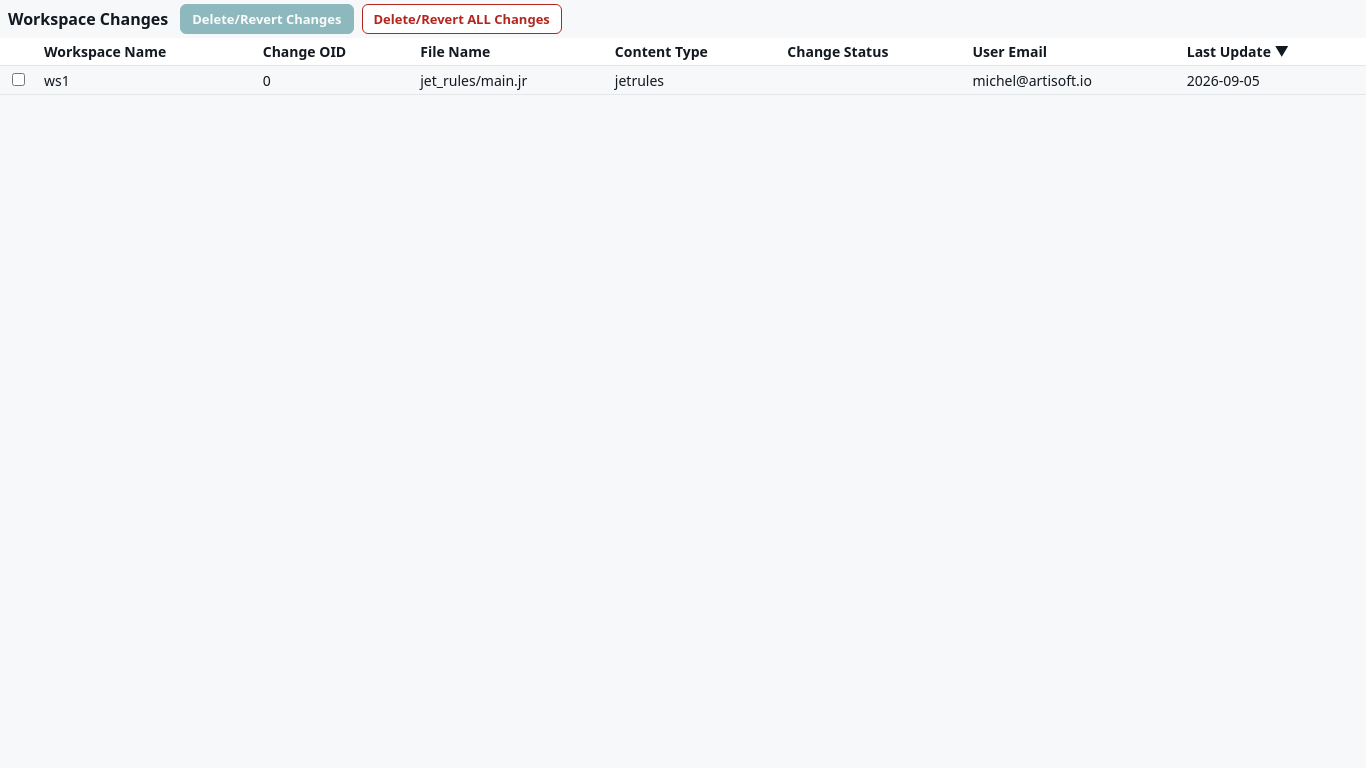
it: the workspace home's changes table › asks before reverting, and sends nothing when refused
The image size is (1366, 768).
Click the checkbox named "Select row 1". click: (18, 80)
box: [12, 73, 25, 86]
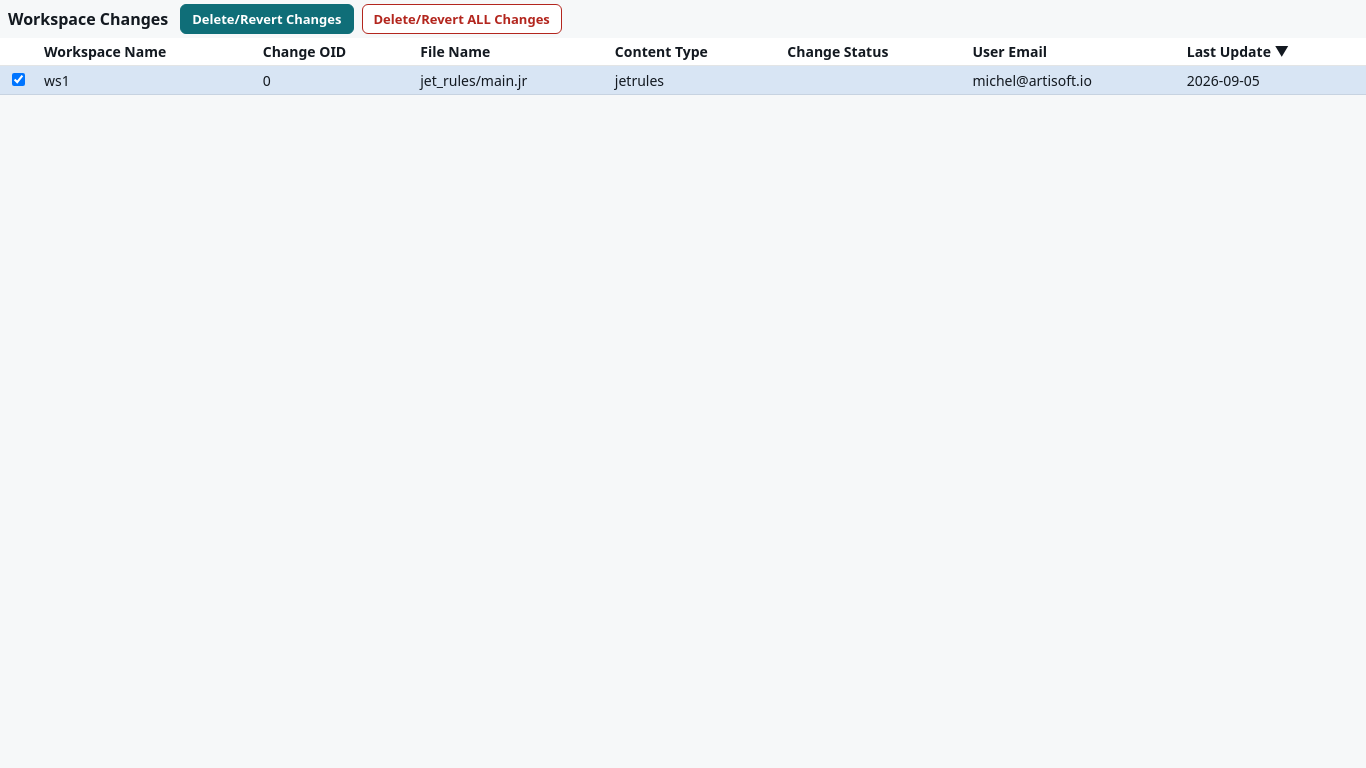
Click the button "Delete/Revert Changes". click: (267, 19)
box: [180, 4, 354, 34]
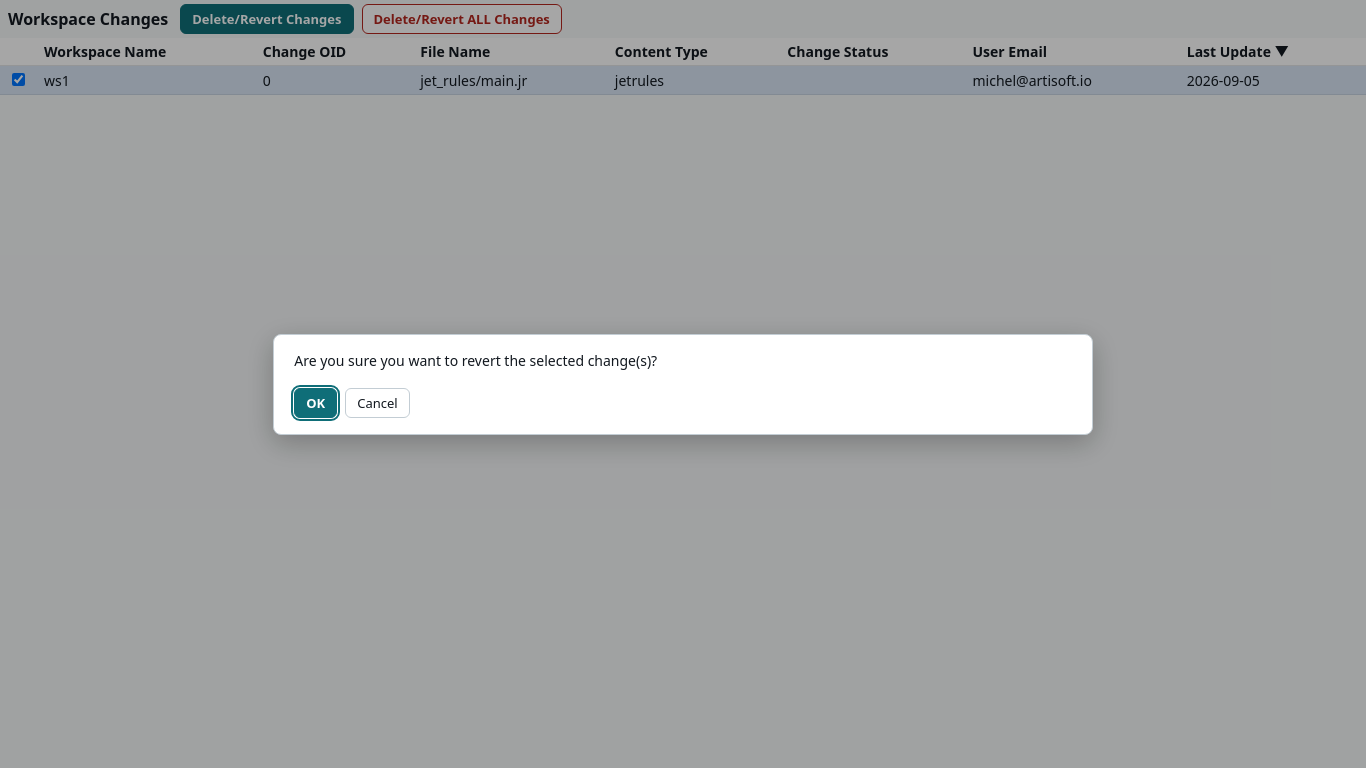
Expected: the dialog is shown, [273, 334, 1093, 434]
Click the button "Cancel". click: (377, 402)
box: [345, 388, 410, 418]
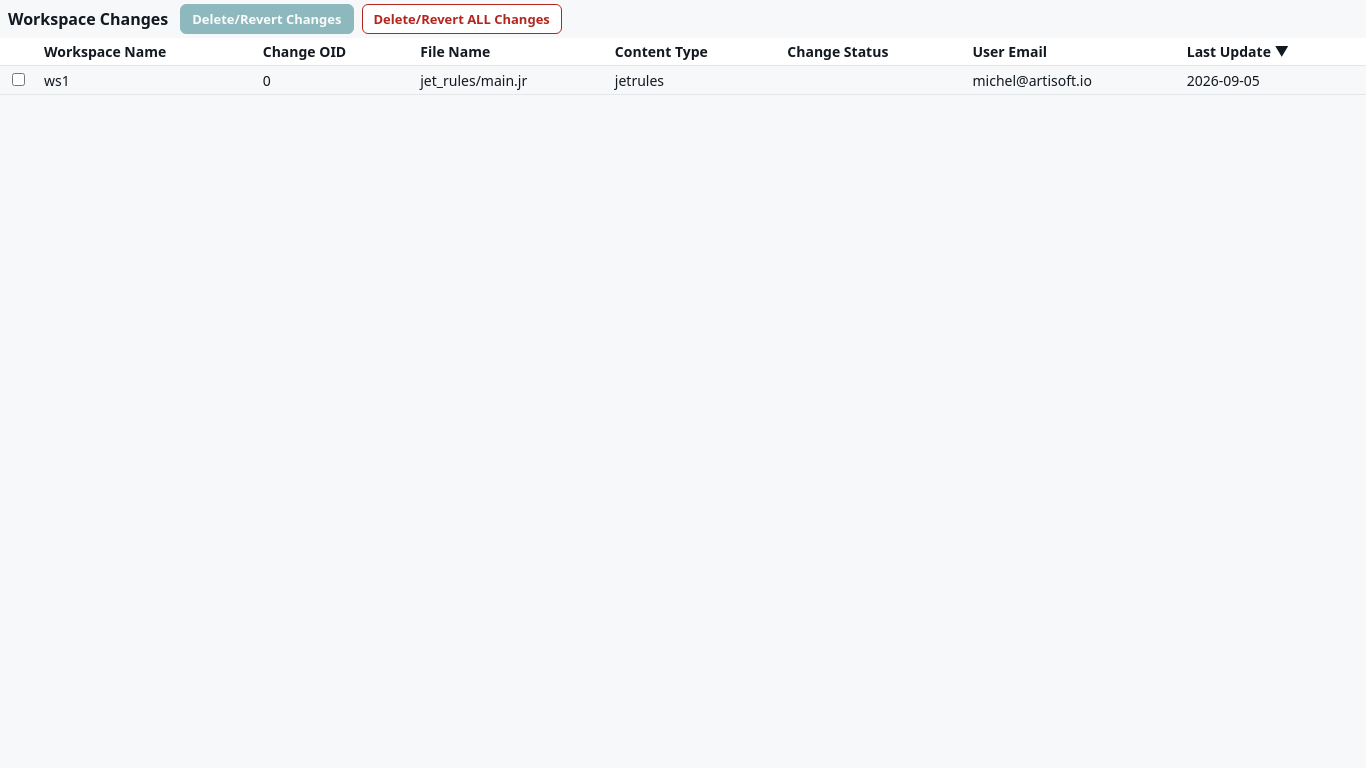
Expected: the dialog is gone
